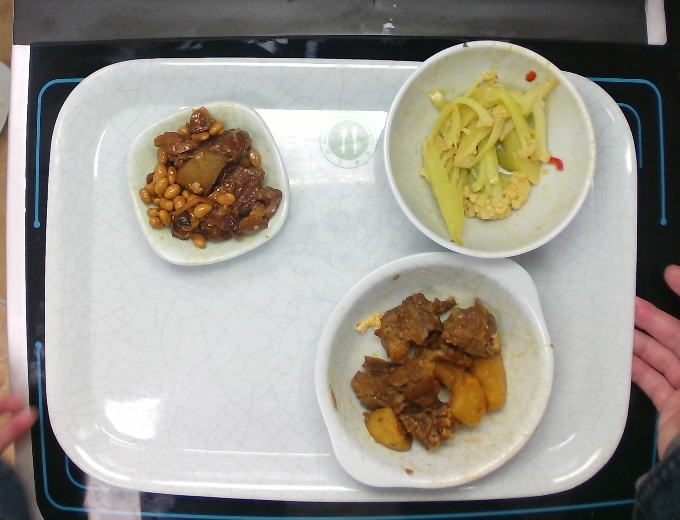JYsf-Fan_Wan: (371, 36, 608, 264)
JYsf-Shuang_Er_Wan: (302, 243, 568, 492)
JYsf-Si_Fang_Die: (111, 79, 303, 276)
